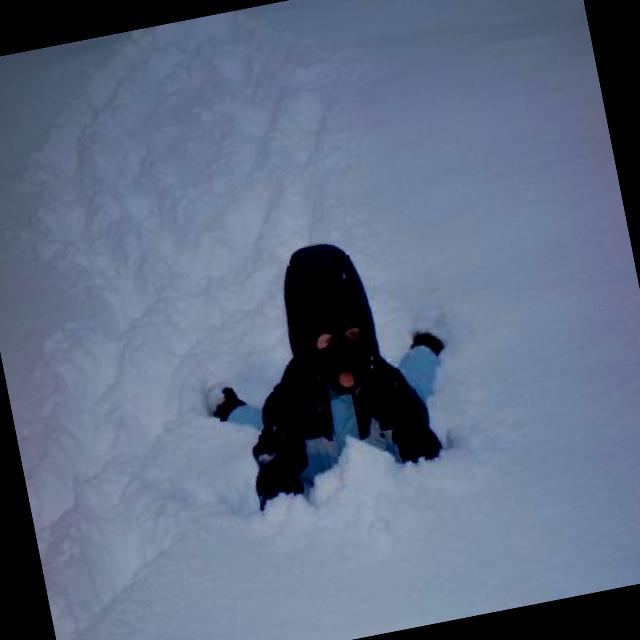Person: (207, 228, 457, 535)
